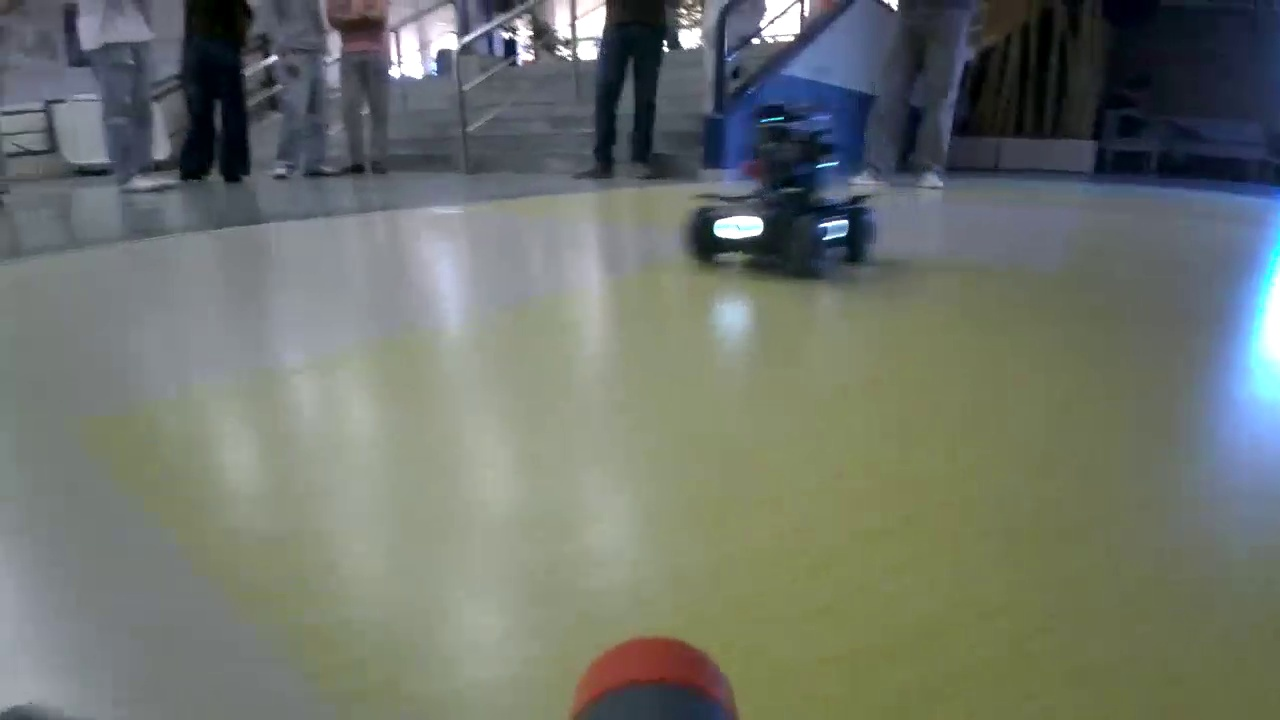robot: (688, 105, 873, 268)
